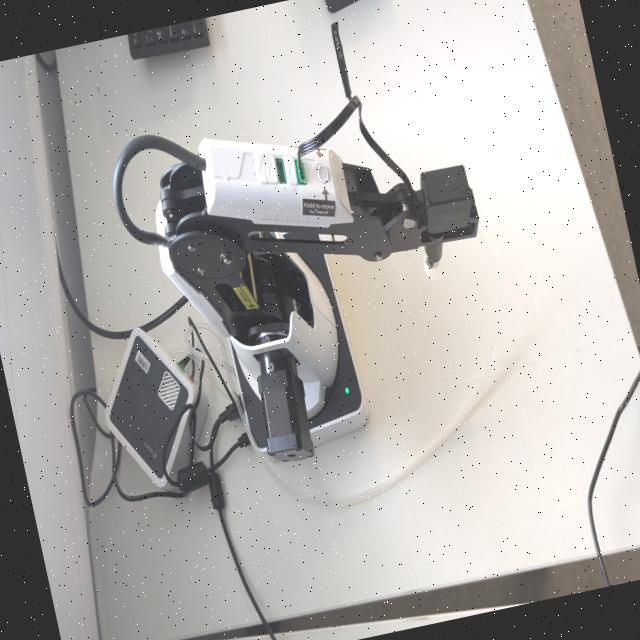Robot-end-effector-HF8z: (395, 156, 494, 292)
